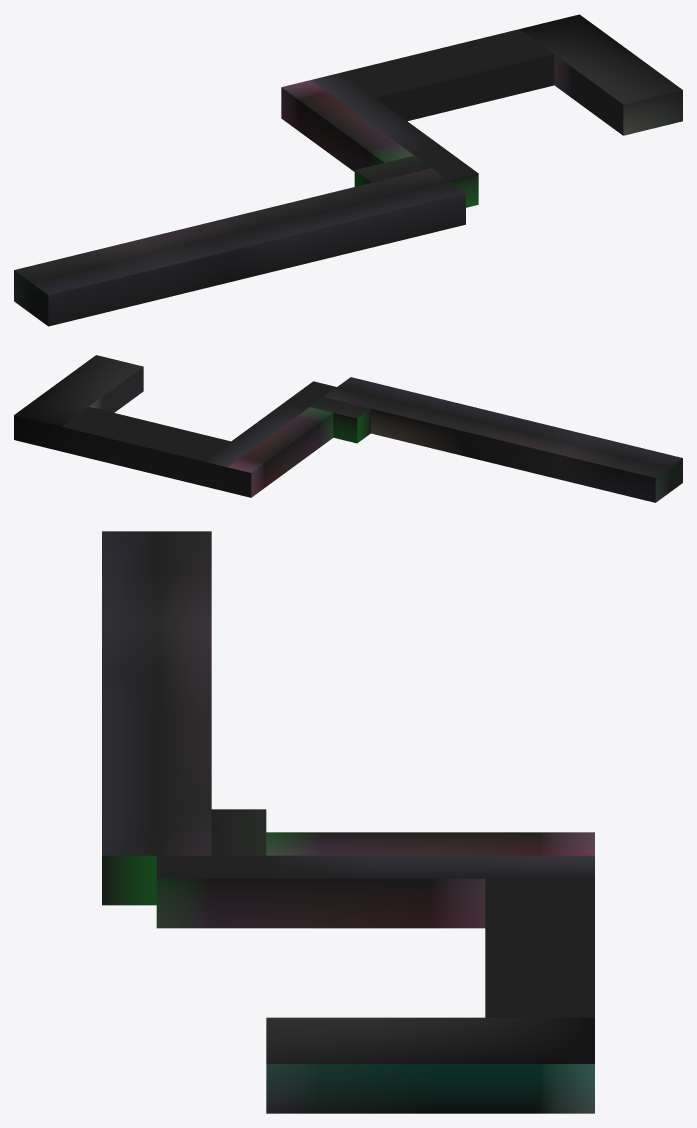
The model's file is Cable_W_00.fbx.
3 renders of one model, top to bottom at view 1: azimuth 30°, elevation 25°; view 2: azimuth 150°, elevation 25°; view 3: azimuth 270°, elevation 25°, orthographic. The views are drawn at different scales.
Visible parts, largest first — view 1: Cable_W_00; view 2: Cable_W_00; view 3: Cable_W_00.
Part boxes in pixels (x1,y1,x2,y2): Cable_W_00: [14, 14, 682, 326]; Cable_W_00: [14, 355, 682, 502]; Cable_W_00: [102, 531, 594, 1113].
Size of the model in its own units: 115 by 5 by 45.
